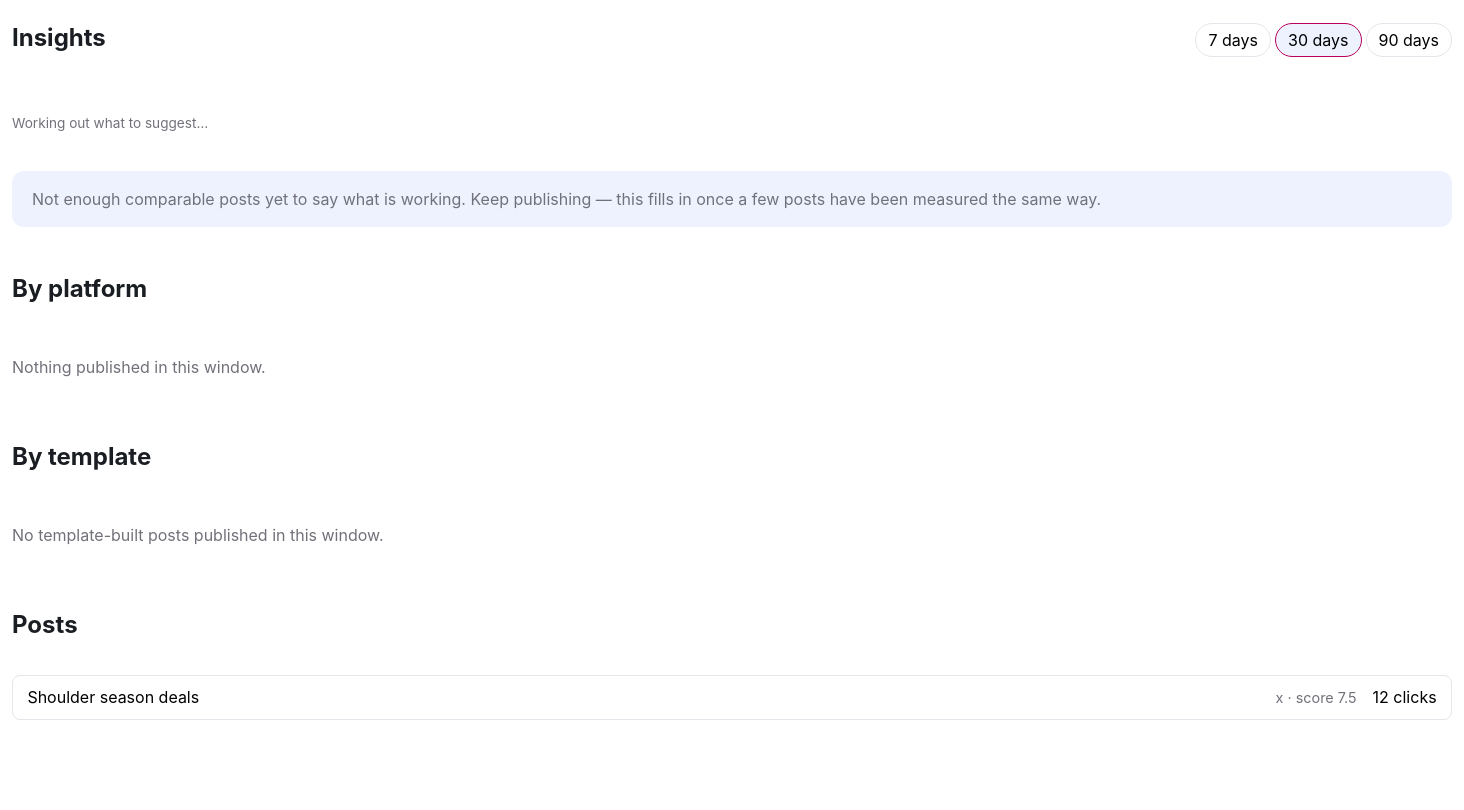
it: Insights › the metric timeline › dashes the metrics this platform never reported
The image size is (1464, 810).
Expected: the text "Shoulder season deals" is shown, [27,687,199,707]
Click the button "Shoulder season deals x · score 7.5 12 clicks". click: coordinates (113, 697)
box: [12,675,1452,720]
(page scrolled)
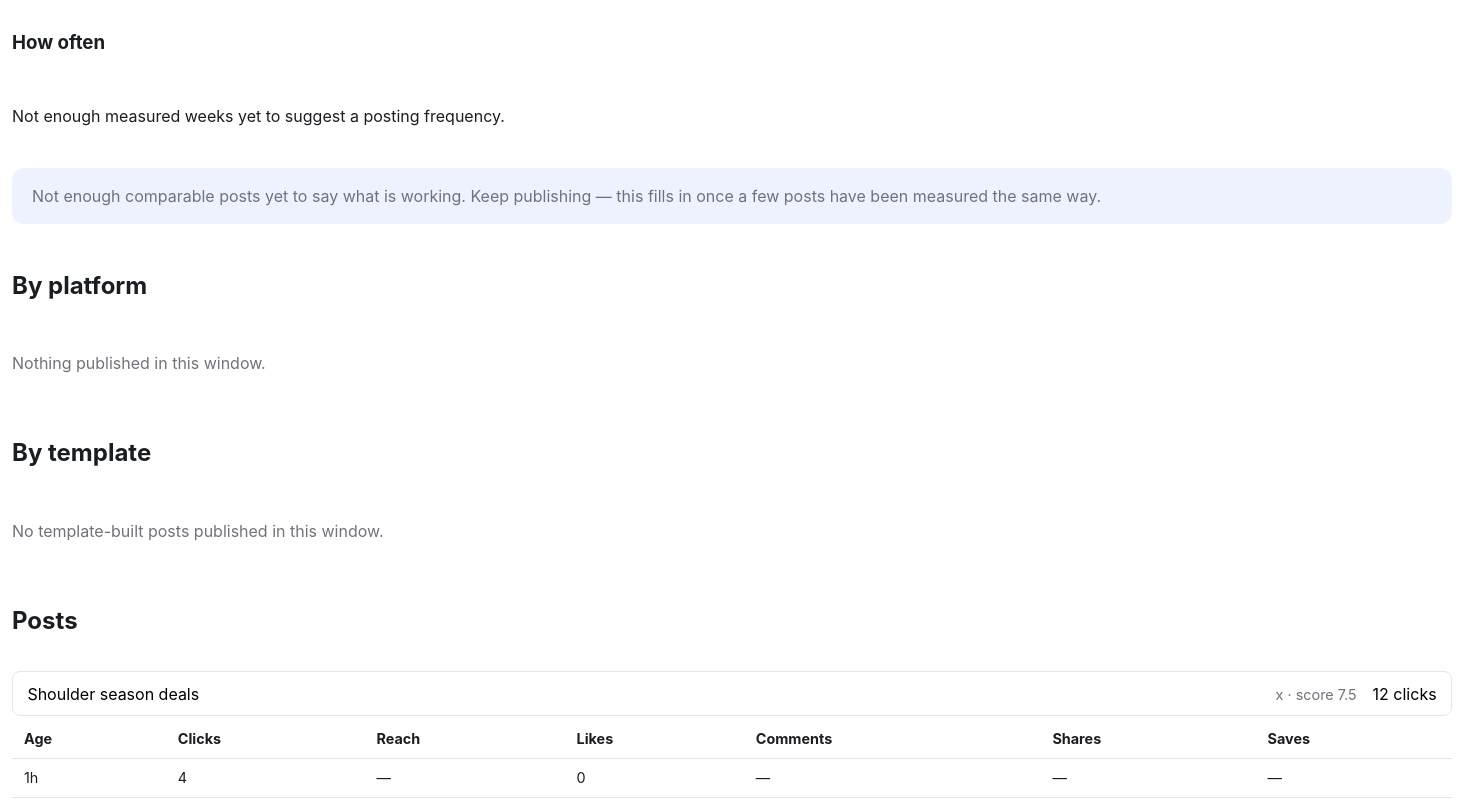
Expected: the cell "4" is shown, [166,758,364,797]
Expected: the 1st cell "—" is shown, [364,758,565,797]
Expected: the cell "0" is shown, [565,758,744,797]
